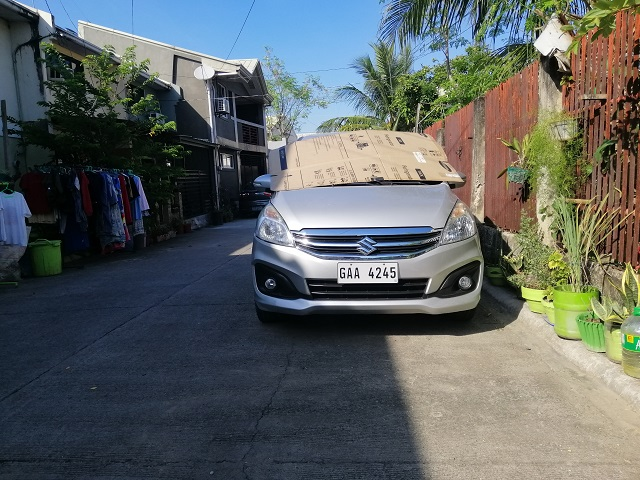bottle: (623, 307, 640, 376)
car: (253, 132, 485, 328)
plant: (557, 202, 596, 341), (521, 227, 546, 315), (581, 295, 612, 352)
